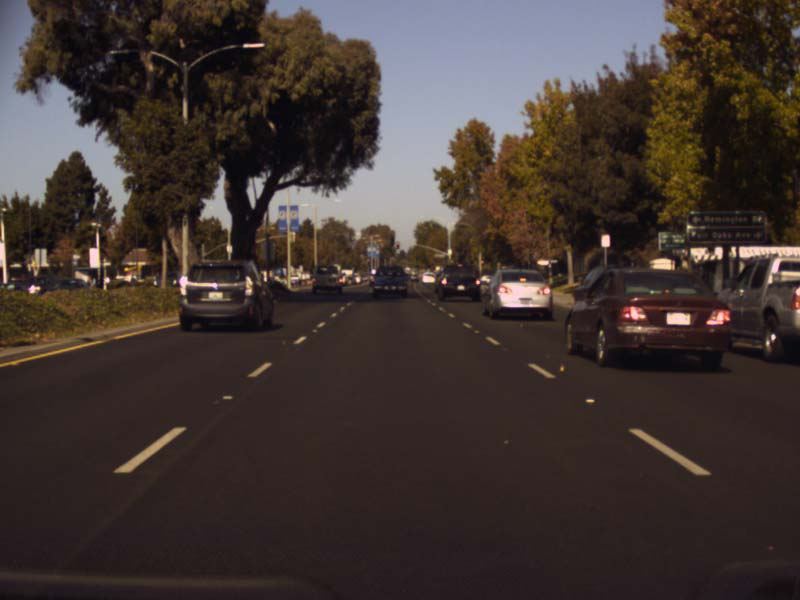Red: (396, 242, 399, 248)
